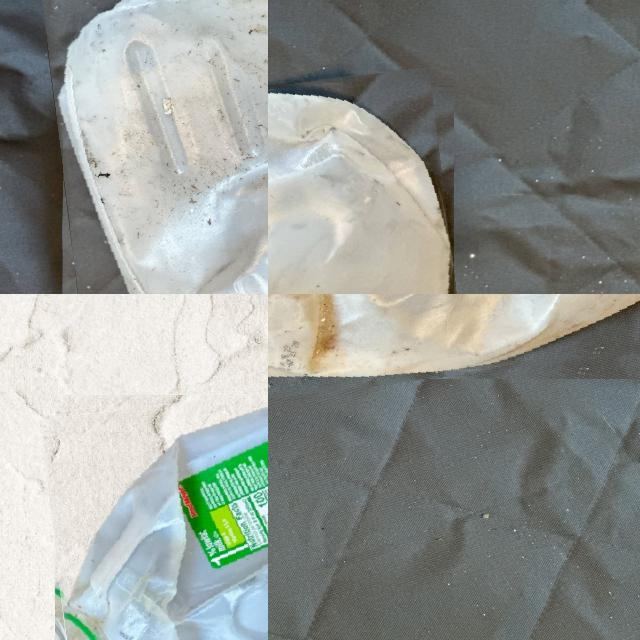milk-jug: (50, 0, 268, 294), (46, 381, 268, 640), (268, 75, 465, 294), (268, 294, 640, 394)
